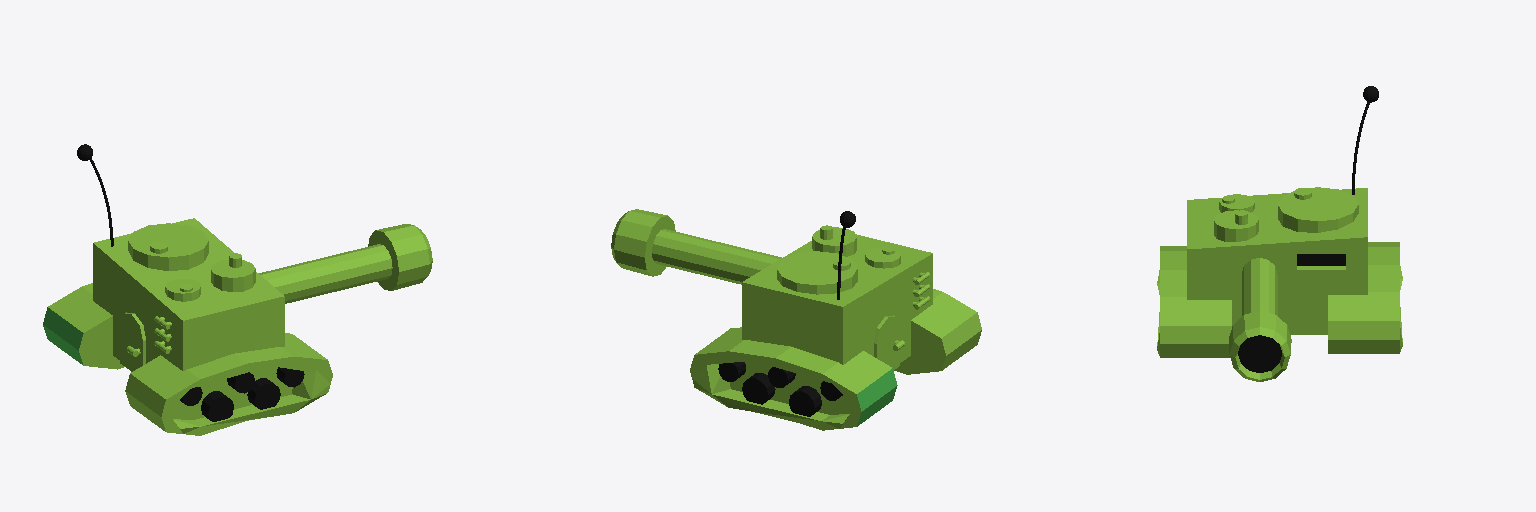
3 renders of one model, left to right at view 1: azimuth 30°, elevation 25°; view 2: azimuth 150°, elevation 25°; view 3: azimuth 270°, elevation 25°, orthographic.
Parts seen in each view (by area): view 1: group[number redacted], group[number redacted], group[number redacted], group[number redacted], group[number redacted], group[number redacted], group[number redacted], group[number redacted], group[number redacted], group[number redacted], group[number redacted]; view 2: group[number redacted], group[number redacted], group[number redacted], group[number redacted], group[number redacted], group[number redacted], group[number redacted], group[number redacted], group[number redacted], group[number redacted], group[number redacted]; view 3: group[number redacted], group[number redacted], group[number redacted], group[number redacted], group[number redacted], group[number redacted], group[number redacted].
Boxes of the visible parts, x1,y1,x2,y2 form: group[number redacted]: [93, 218, 284, 370]; group[number redacted]: [125, 333, 332, 435]; group[number redacted]: [259, 244, 392, 303]; group[number redacted]: [43, 283, 124, 369]; group[number redacted]: [128, 223, 208, 270]; group[number redacted]: [368, 224, 432, 290]; group[number redacted]: [120, 312, 145, 371]; group[number redacted]: [211, 260, 255, 291]; group[number redacted]: [201, 391, 233, 421]; group[number redacted]: [247, 378, 280, 409]; group[number redacted]: [165, 279, 200, 301]; group[number redacted]: [742, 234, 932, 364]; group[number redacted]: [690, 327, 897, 430]; group[number redacted]: [894, 289, 981, 374]; group[number redacted]: [652, 229, 781, 284]; group[number redacted]: [611, 209, 675, 276]; group[number redacted]: [777, 251, 857, 294]; group[number redacted]: [874, 315, 899, 369]; group[number redacted]: [812, 227, 856, 256]; group[number redacted]: [789, 386, 821, 416]; group[number redacted]: [742, 373, 775, 404]; group[number redacted]: [865, 247, 900, 268]; group[number redacted]: [1187, 188, 1367, 334]; group[number redacted]: [1328, 242, 1402, 353]; group[number redacted]: [1157, 246, 1231, 357]; group[number redacted]: [1229, 311, 1291, 381]; group[number redacted]: [1278, 187, 1358, 232]; group[number redacted]: [1242, 258, 1277, 315]; group[number redacted]: [1214, 210, 1258, 241].
Size of the model in its own units: 1.06 by 0.7091 by 0.7317.